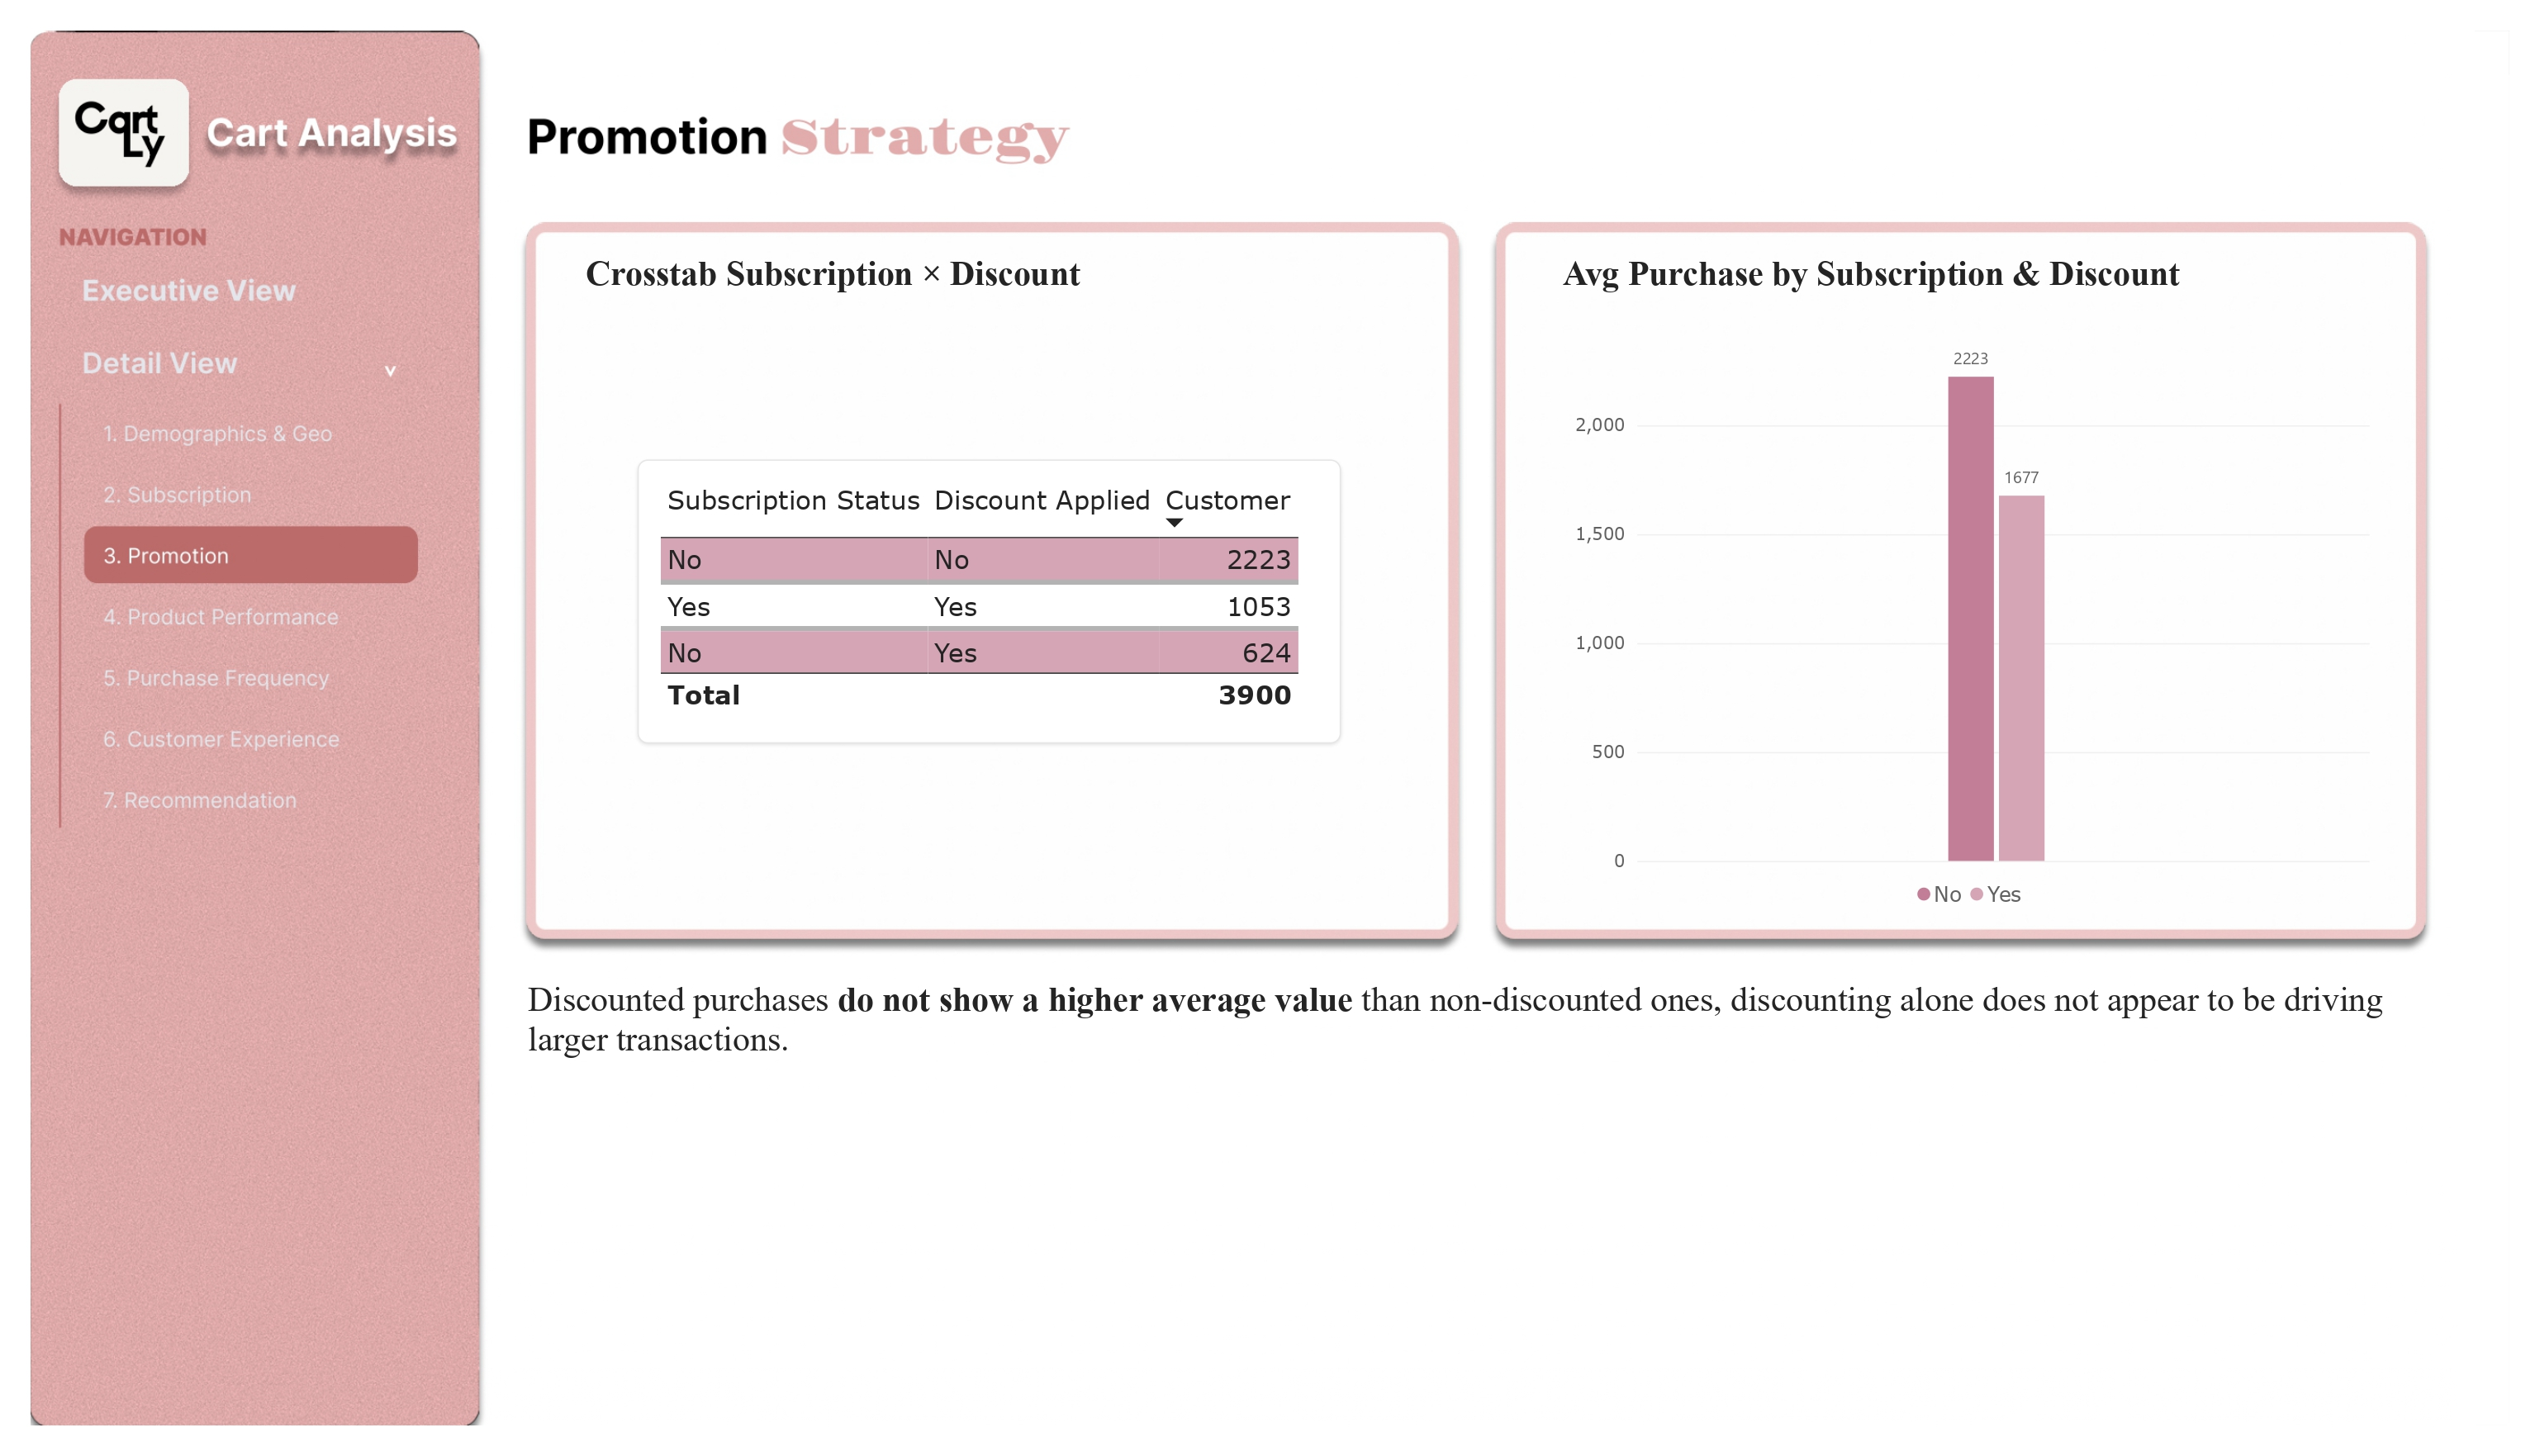

This screenshot's page, from the dashboard's own definition file:
{"tool":"powerbi","page":{"name":"Promotion Page","canvas":[1920,1080],"ordinal":3},"visuals":[{"type":"image","box":[0,0,1892.5,1080],"z":0},{"type":"actionButton","box":[21.8,172.9,280.9,52.7],"z":0,"group":"g1"},{"type":"actionButton","box":[21.9,231.2,281,52],"z":1000,"group":"g1"},{"type":"tableEx","fields":{"Values":["Customer_Shopping_Behavior_Clean_Update2.subscription_status","Customer_Shopping_Behavior_Clean_Update2.discount_applied","CountNonNull(Customer_Shopping_Behavior_Clean_Update2.customer_id)"]},"box":[470,331.7,545,220],"z":1000},{"type":"clusteredColumnChart","fields":{"Series":["Customer_Shopping_Behavior_Clean_Update2.discount_applied"],"Y":["CountNonNull(Customer_Shopping_Behavior_Clean_Update2.subscription_status)"]},"box":[1180,215,647.5,485],"z":2000},{"type":"actionButton","box":[40.9,287.7,260.5,46],"z":2000,"group":"g1"},{"type":"textbox","box":[430,173,476,42],"z":3000},{"type":"actionButton","box":[40.9,334.6,260.4,46.1],"z":3000,"group":"g1"},{"type":"textbox","box":[1180,173,667.5,57.5],"z":4000},{"type":"actionButton","box":[40.9,383.1,260,46.1],"z":4000,"group":"g1"},{"type":"actionButton","box":[40.9,432.8,260,46],"z":5000,"group":"g1"},{"type":"textbox","box":[385,735,1464,316],"z":5000},{"type":"group","id":"g1","title":"Side Bar","box":[21.8,172.9,280.6,445.3],"z":6000},{"type":"actionButton","box":[40.9,480.4,260,46],"z":6000,"group":"g1"},{"type":"shape","box":[1880,0,40,1080],"z":6001},{"type":"actionButton","box":[40.9,526.4,260,46],"z":7000,"group":"g1"},{"type":"actionButton","box":[40.9,572.5,260,46],"z":8000,"group":"g1"}]}

Visuals, with their boxes on the page's 1920x1080 design canvas (x1, y1, x2, y2). These are canvas units, not pixel positions in the 2540x1456 screenshot, which may show the page scaled, cropped or inside an application window:
image: region(0, 0, 1892, 1080)
actionButton: region(22, 173, 303, 226)
actionButton: region(22, 231, 303, 283)
tableEx - Customer_Shopping_Behavior_Clean_Update2.subscription_status x Customer_Shopping_Behavior_Clean_Update2.discount_applied: region(470, 332, 1015, 552)
clusteredColumnChart - Customer_Shopping_Behavior_Clean_Update2.discount_applied x CountNonNull(Customer_Shopping_Behavior_Clean_Update2.subscription_status): region(1180, 215, 1828, 700)
actionButton: region(41, 288, 301, 334)
textbox: region(430, 173, 906, 215)
actionButton: region(41, 335, 301, 381)
textbox: region(1180, 173, 1848, 230)
actionButton: region(41, 383, 301, 429)
actionButton: region(41, 433, 301, 479)
textbox: region(385, 735, 1849, 1051)
"Side Bar" group: region(22, 173, 302, 618)
actionButton: region(41, 480, 301, 526)
shape: region(1880, 0, 1920, 1080)
actionButton: region(41, 526, 301, 572)
actionButton: region(41, 572, 301, 618)
